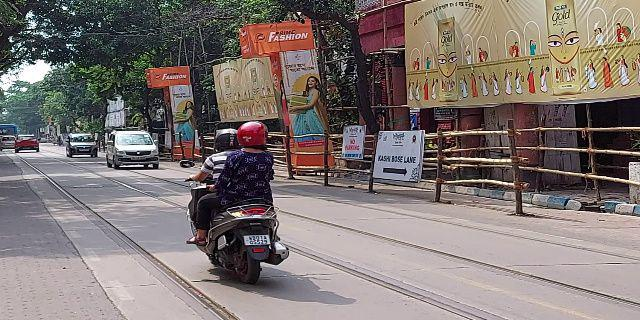Car: (102, 128, 162, 174), (60, 131, 99, 159), (12, 128, 42, 156)
Motorbike: (184, 116, 289, 290)
